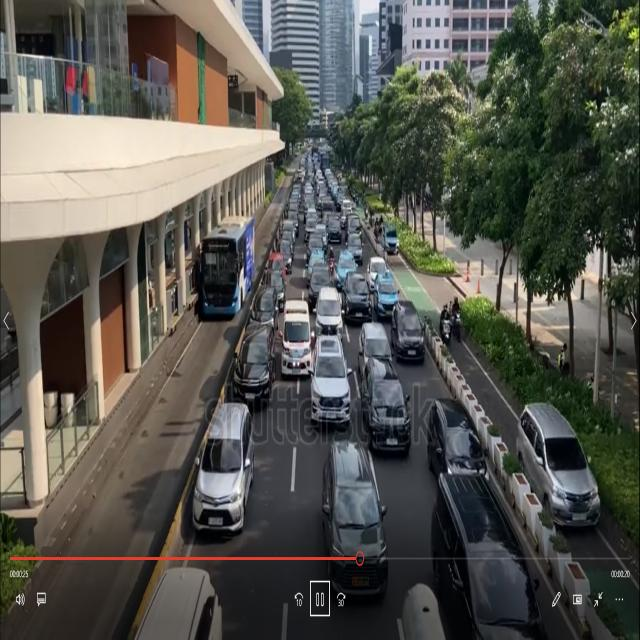Ambulance: (278, 295, 318, 387)
